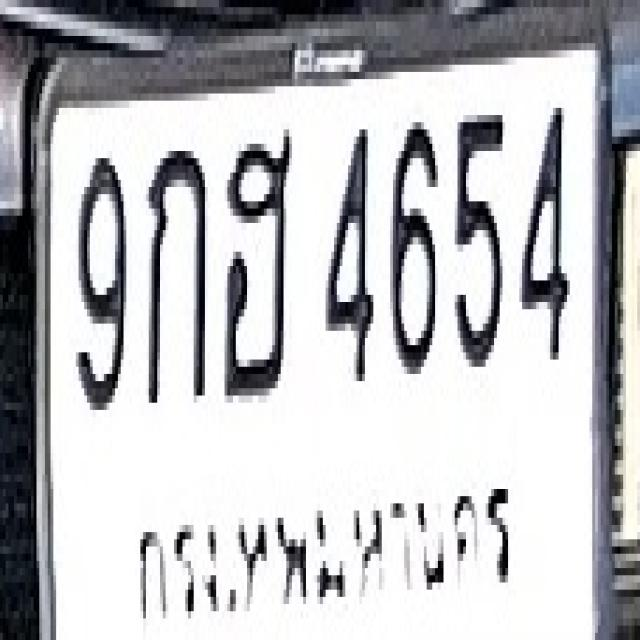4: (519, 100, 570, 360), (323, 122, 373, 381)
5: (453, 108, 504, 367)
6: (389, 115, 436, 374)
9: (76, 151, 126, 410)
A01: (144, 144, 207, 403)
A44: (222, 126, 292, 399)
BKK: (132, 469, 520, 636)
